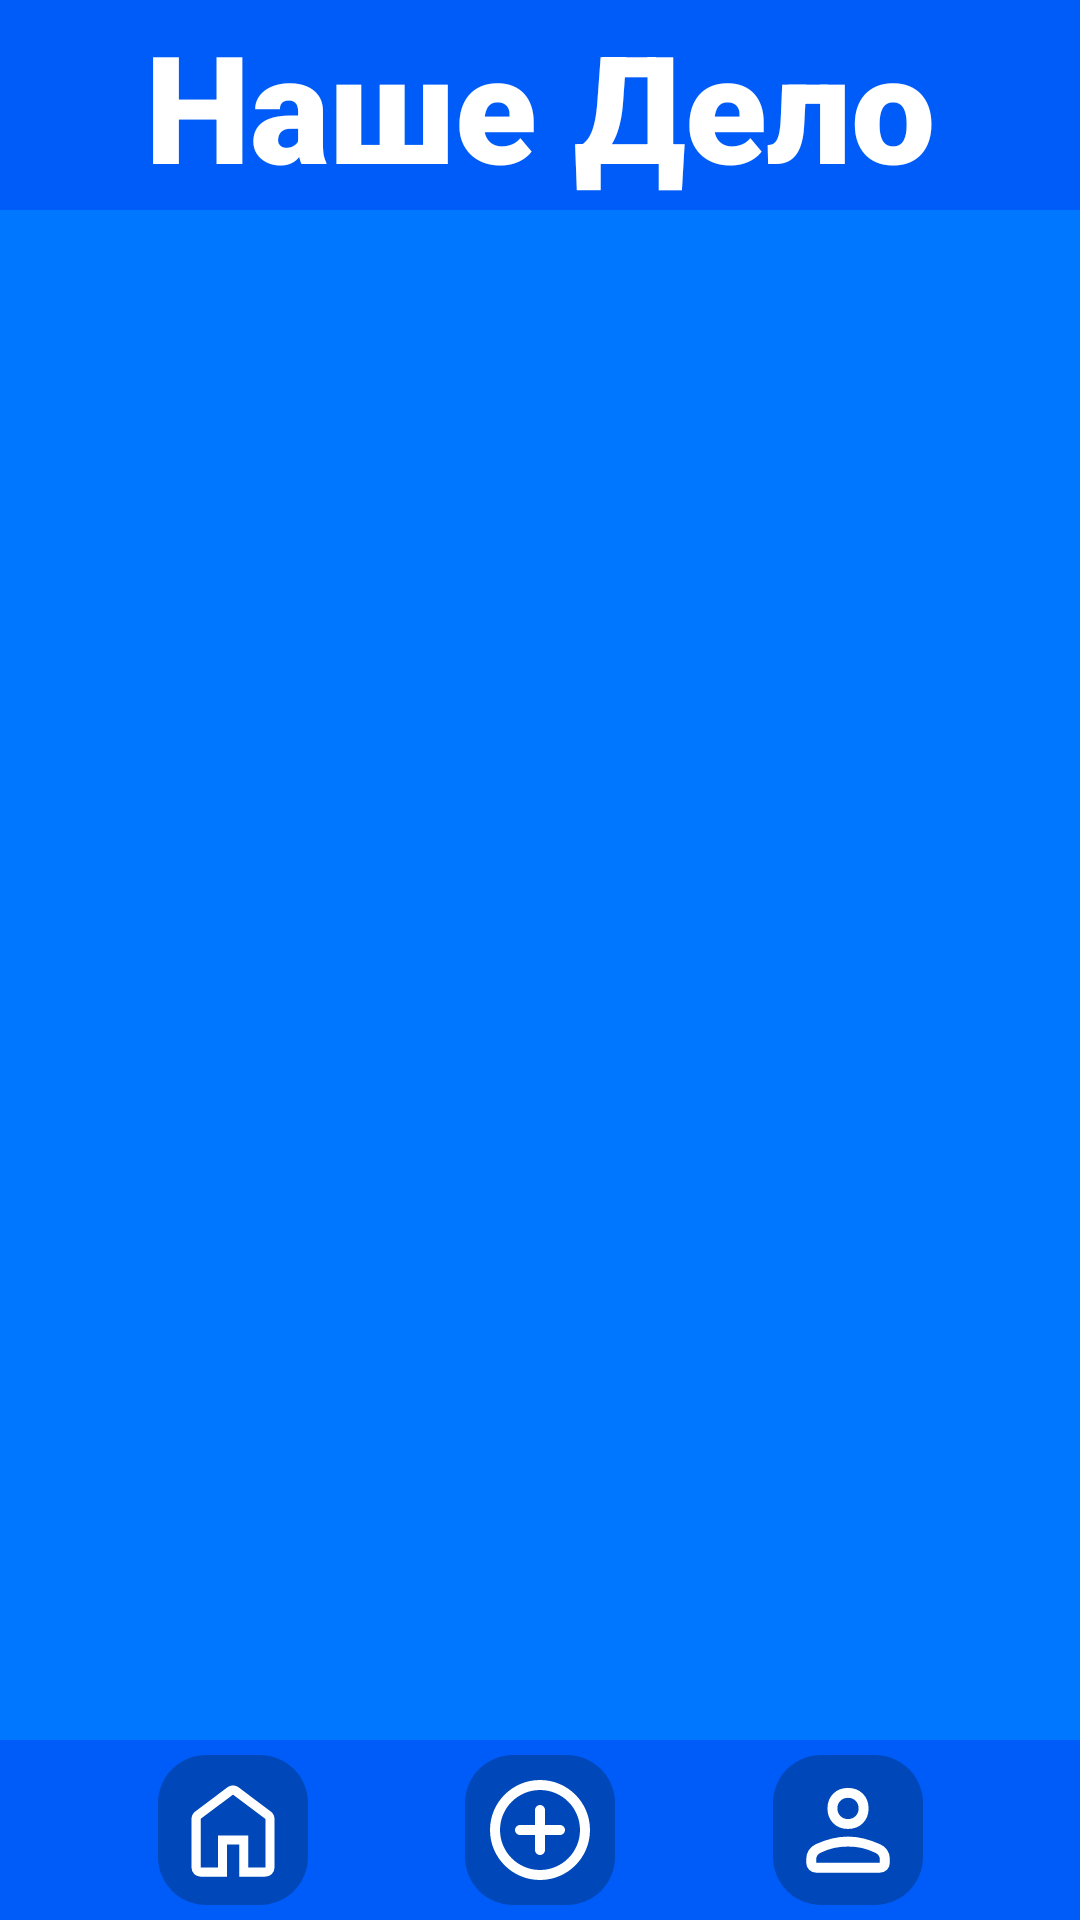

Named icons in this screenshot (1080*1920) and their centers, (x=x, y=y):
add: (x=540, y=1830)
home: (x=233, y=1830)
person: (x=848, y=1830)
